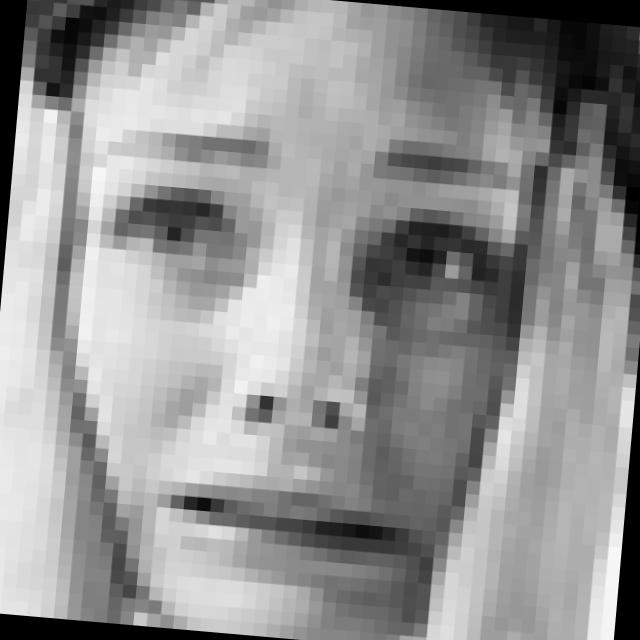fear: (54, 118, 516, 612)
